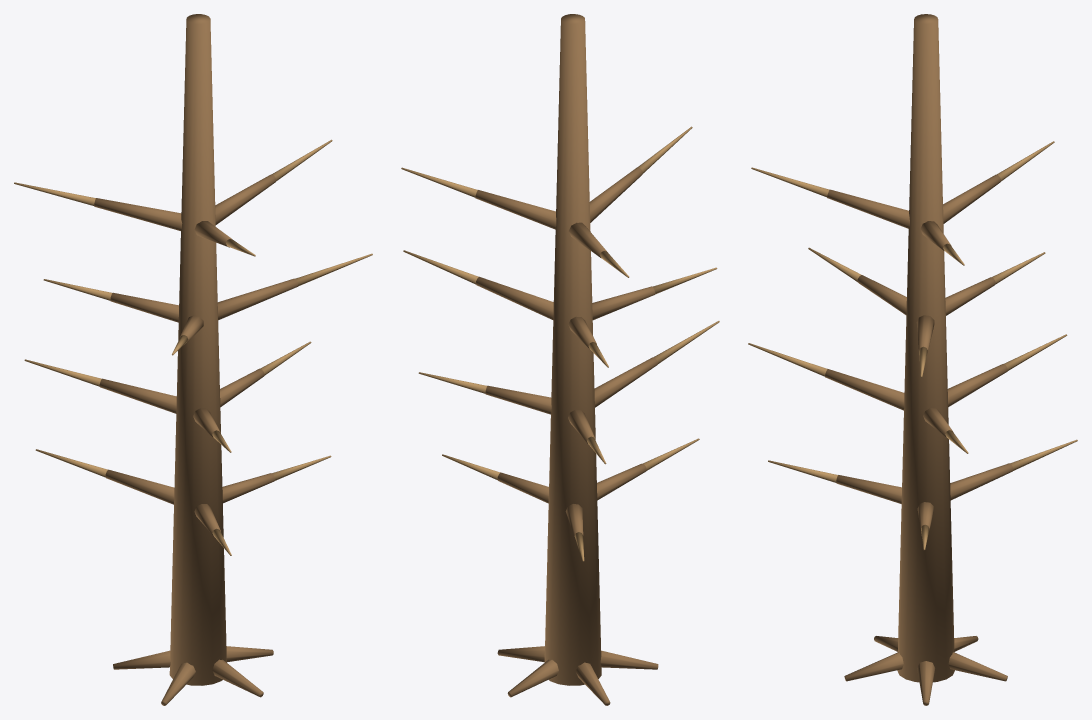
Rendered from dry_tree_c.glb.
3 renders of one model, left to right at view 1: azimuth 30°, elevation 25°; view 2: azimuth 150°, elevation 25°; view 3: azimuth 270°, elevation 25°, orthographic.
Parts seen in each view (by area): view 1: dry_tree_c_trunk, dry_tree_c_branch_3_1_a, dry_tree_c_branch_2_0_a, dry_tree_c_branch_1_1_a, dry_tree_c_branch_3_0_a, dry_tree_c_branch_0_1_a, dry_tree_c_branch_2_1_a, root_4, dry_tree_c_branch_0_0_a, root_2, dry_tree_c_branch_1_0_a, root_3; view 2: dry_tree_c_trunk, dry_tree_c_branch_3_0_a, dry_tree_c_branch_2_0_a, dry_tree_c_branch_1_2_a, dry_tree_c_branch_1_0_a, dry_tree_c_branch_3_2_a, dry_tree_c_branch_2_2_a, root_1, dry_tree_c_branch_0_2_a, dry_tree_c_branch_0_0_a, root_3, root_2 (+2 smaller); view 3: dry_tree_c_trunk, dry_tree_c_branch_3_2_a, dry_tree_c_branch_1_2_a, dry_tree_c_branch_3_1_a, dry_tree_c_branch_0_2_a, dry_tree_c_branch_0_1_a, dry_tree_c_branch_1_1_a, root_4, root_1, dry_tree_c_branch_2_1_a, dry_tree_c_branch_2_2_a, root_0.
Part boxes in pixels (box(x1,y1,x2,y2)): dry_tree_c_trunk: box(169, 14, 226, 685); dry_tree_c_branch_3_1_a: box(94, 198, 182, 230); dry_tree_c_branch_2_0_a: box(217, 278, 297, 319); dry_tree_c_branch_1_1_a: box(99, 378, 176, 413); dry_tree_c_branch_3_0_a: box(215, 174, 276, 224); dry_tree_c_branch_0_1_a: box(105, 469, 174, 504); dry_tree_c_branch_2_1_a: box(110, 292, 178, 322); root_4: box(212, 659, 263, 697); dry_tree_c_branch_0_0_a: box(222, 473, 274, 503); root_2: box(113, 650, 170, 669); dry_tree_c_branch_1_0_a: box(220, 368, 264, 407); root_3: box(161, 662, 195, 705); dry_tree_c_trunk: box(544, 14, 601, 685); dry_tree_c_branch_3_0_a: box(475, 190, 556, 229); dry_tree_c_branch_2_0_a: box(475, 276, 553, 319); dry_tree_c_branch_1_2_a: box(594, 357, 657, 407); dry_tree_c_branch_1_0_a: box(485, 385, 551, 414); dry_tree_c_branch_3_2_a: box(589, 167, 642, 222); dry_tree_c_branch_2_2_a: box(592, 286, 655, 320); root_1: box(507, 659, 558, 697); dry_tree_c_branch_0_2_a: box(597, 463, 646, 500); dry_tree_c_branch_0_0_a: box(497, 472, 548, 503); root_3: box(600, 650, 658, 669); root_2: box(575, 662, 610, 705); dry_tree_c_trunk: box(897, 14, 954, 682); dry_tree_c_branch_3_2_a: box(827, 189, 909, 228); dry_tree_c_branch_1_2_a: box(825, 369, 904, 410); dry_tree_c_branch_3_1_a: box(943, 174, 1000, 223); dry_tree_c_branch_0_2_a: box(836, 475, 901, 503); dry_tree_c_branch_0_1_a: box(950, 463, 1013, 500); dry_tree_c_branch_1_1_a: box(947, 364, 1007, 406); root_4: box(844, 652, 903, 681); root_1: box(948, 652, 1007, 681); dry_tree_c_branch_2_1_a: box(945, 277, 995, 315); dry_tree_c_branch_2_2_a: box(857, 275, 906, 314); root_0: box(917, 661, 935, 705).
Size of the model in its own units: 1.98 by 4.24 by 1.94.
